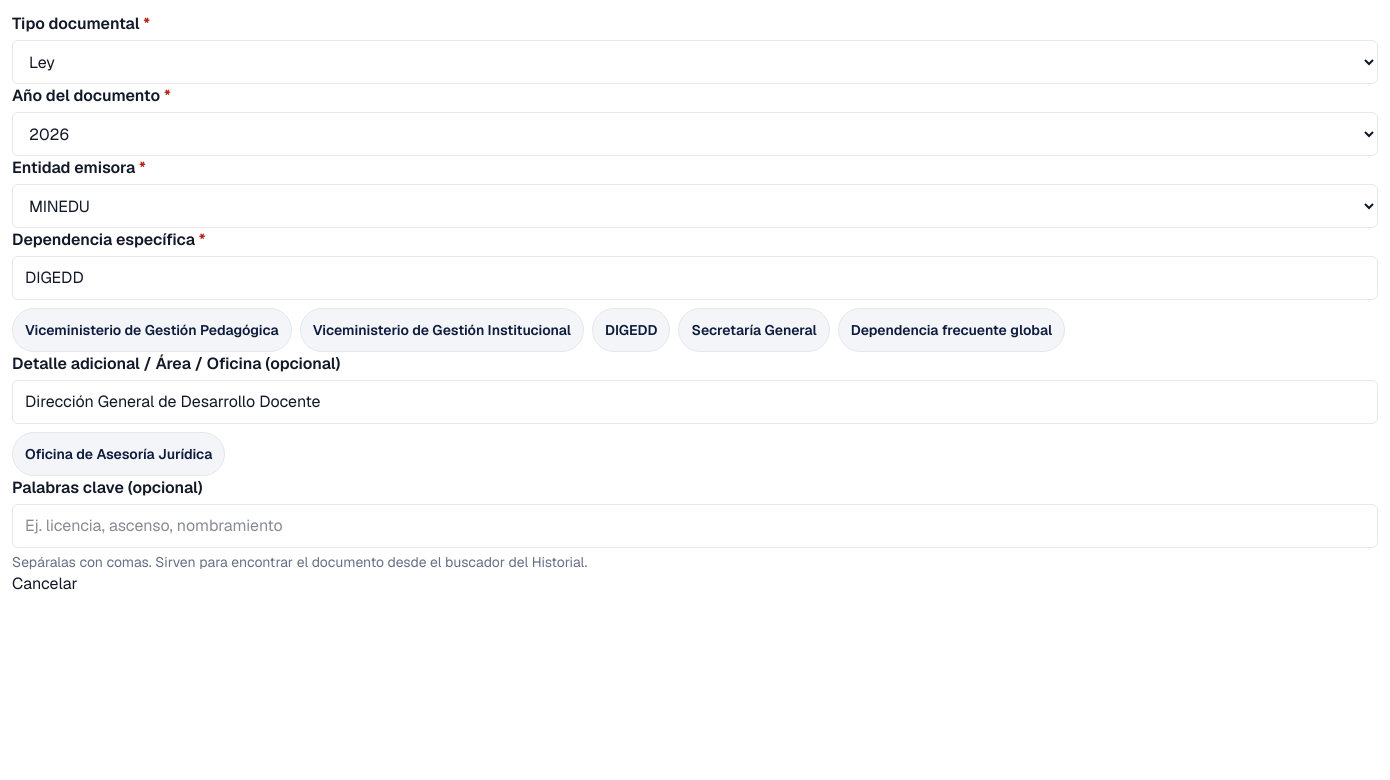
Test case: DocumentMetadataFields › resets dependency on entity change and prioritizes relevant quick values
Check: the field labelled "Dependencia específica" holds "DIGEDD", box 12,256 -> 1378,300
Select "UGEL" in the dropdown labelled "Entidad emisora" at (695,206), box 12,184 -> 1378,228
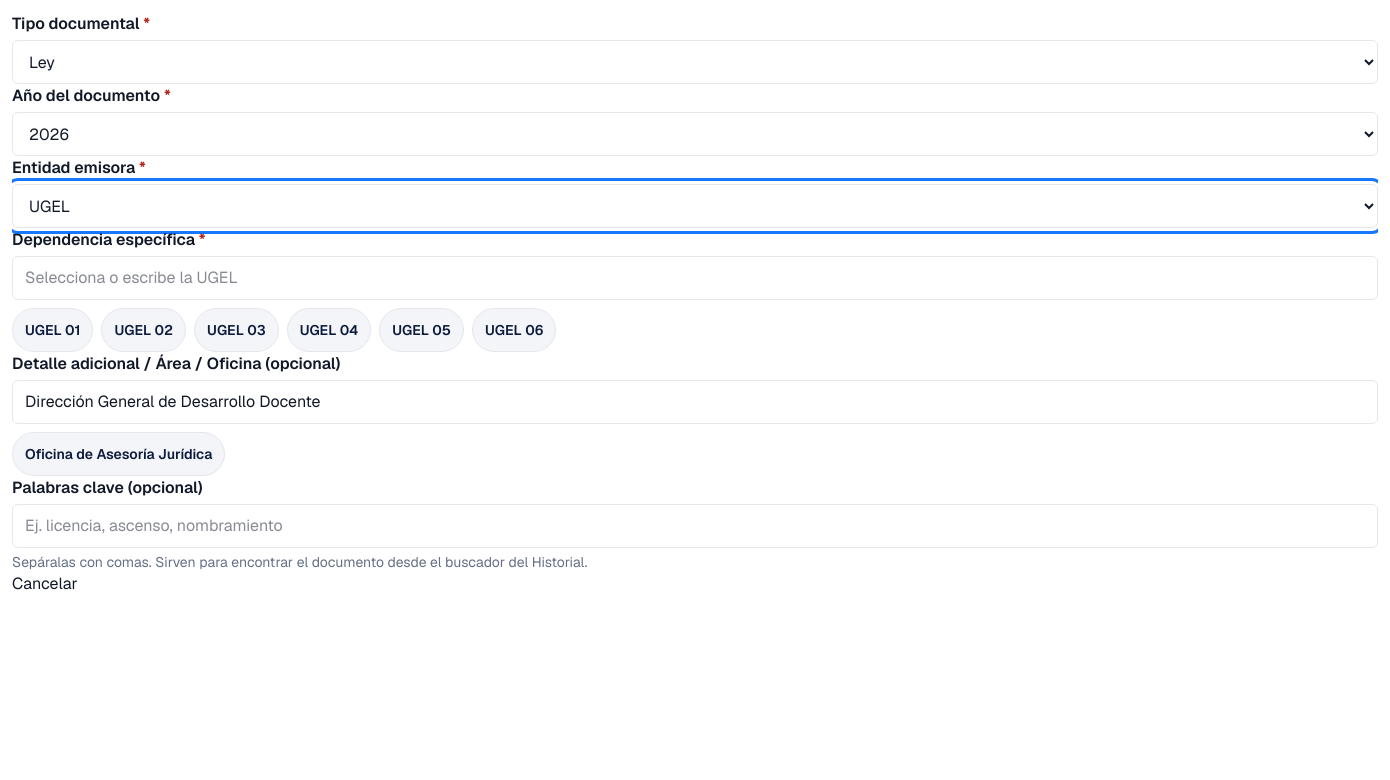
Check: the field labelled "Dependencia específica" is empty, box 12,256 -> 1378,300
Click the button "UGEL 05" at (422,330), box 379,308 -> 464,352
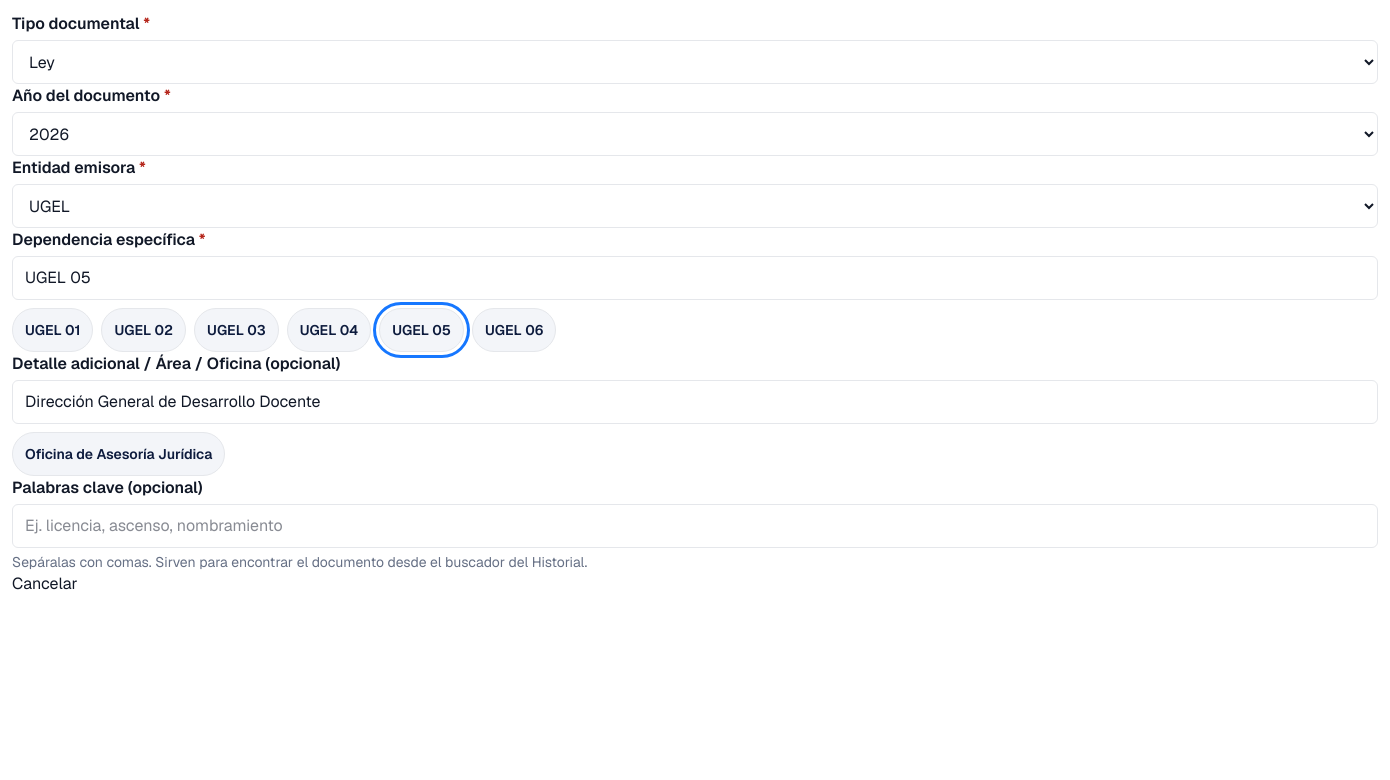
Check: the field labelled "Dependencia específica" holds "UGEL 05", box 12,256 -> 1378,300
